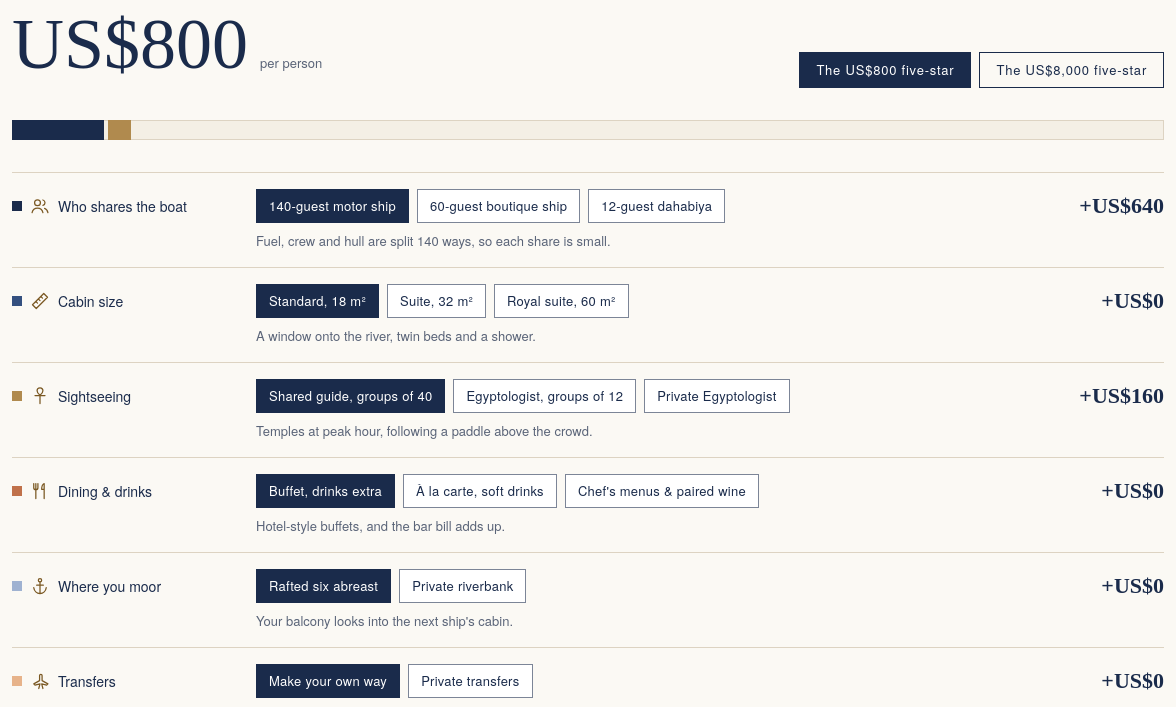
Scenario: PriceAnatomy (COMP-PriceAnatomy) › adds the factors to the two five-star examples: US$800 and US$8,000
Expected: the text "US$800" is shown, [12,8,248,80]
Click the button "The US$8,000 five-star": coordinates (1072, 70) [980,52,1164,88]
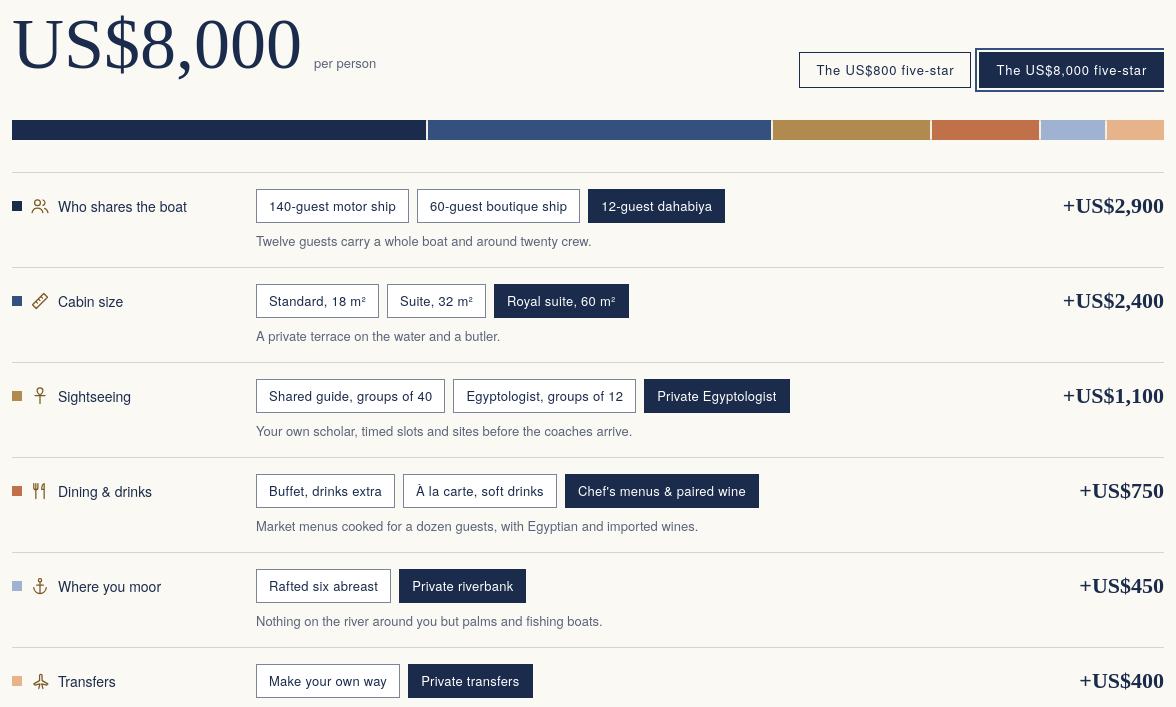
Expected: the text "US$8,000" is shown, [12,8,302,80]
